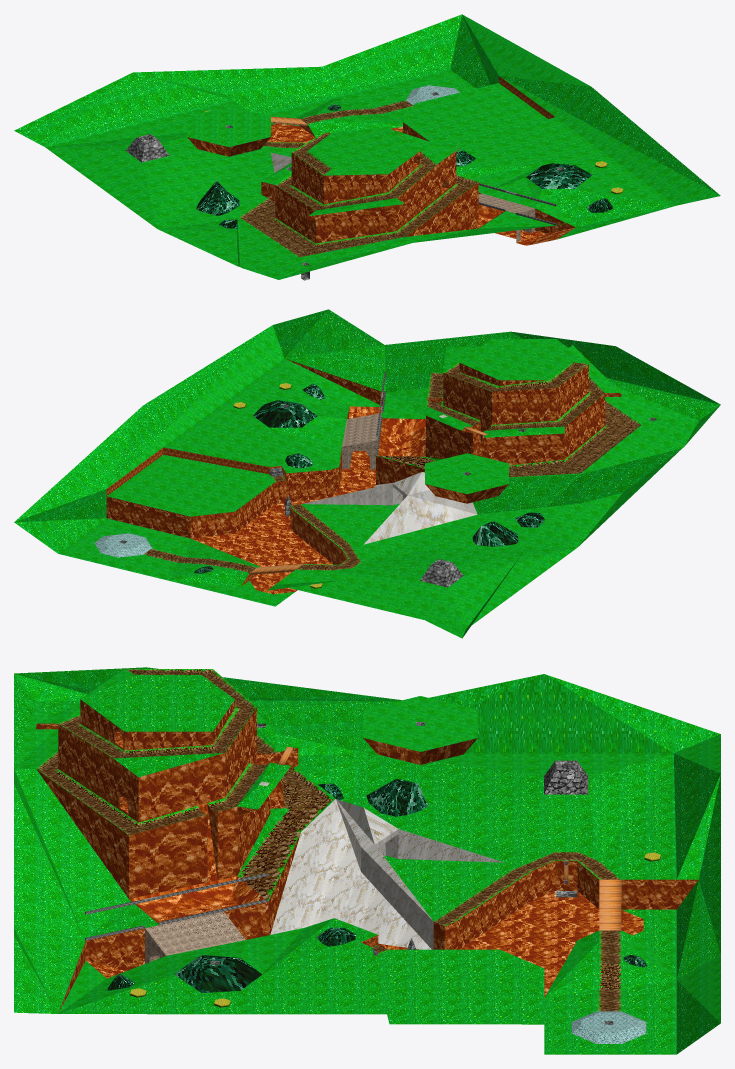
3 views of the same model, one above another, from view 1: azimuth 30°, elevation 25°; view 2: azimuth 150°, elevation 25°; view 3: azimuth 270°, elevation 25° (orthographic). The views are drawn at different scales.
Parts seen in each view (by area): view 1: Shape_IndexedFaceSet.009, Shape_IndexedFaceSet.022, Shape_IndexedFaceSet.024, Shape_IndexedFaceSet.025, Shape_IndexedFaceSet.014, Shape_IndexedFaceSet.027, Shape_IndexedFaceSet.010, Shape_IndexedFaceSet.017, Shape_IndexedFaceSet.015, Shape_IndexedFaceSet.013, Shape_IndexedFaceSet.012, Shape_IndexedFaceSet.023; view 2: Shape_IndexedFaceSet.009, Shape_IndexedFaceSet.022, Shape_IndexedFaceSet.024, Shape_IndexedFaceSet.016, Shape_IndexedFaceSet.025, Shape_IndexedFaceSet.014, Shape_IndexedFaceSet.010, Shape_IndexedFaceSet.027, Shape_IndexedFaceSet.015, Shape_IndexedFaceSet.012, Shape_IndexedFaceSet.023, Shape_IndexedFaceSet.017 (+1 smaller); view 3: Shape_IndexedFaceSet.009, Shape_IndexedFaceSet.022, Shape_IndexedFaceSet.016, Shape_IndexedFaceSet.024, Shape_IndexedFaceSet.025, Shape_IndexedFaceSet.014, Shape_IndexedFaceSet.010, Shape_IndexedFaceSet.015, Shape_IndexedFaceSet.012, Shape_IndexedFaceSet.013, Shape_IndexedFaceSet.017, Shape_IndexedFaceSet.011 (+1 smaller).
Part boxes in pixels (<box>): Shape_IndexedFaceSet.009: <box>14,14,720,279</box>; Shape_IndexedFaceSet.022: <box>187,76,575,245</box>; Shape_IndexedFaceSet.024: <box>262,127,455,216</box>; Shape_IndexedFaceSet.025: <box>239,130,478,257</box>; Shape_IndexedFaceSet.014: <box>196,104,613,228</box>; Shape_IndexedFaceSet.027: <box>244,200,402,256</box>; Shape_IndexedFaceSet.010: <box>263,100,412,148</box>; Shape_IndexedFaceSet.017: <box>125,134,459,162</box>; Shape_IndexedFaceSet.015: <box>478,193,535,242</box>; Shape_IndexedFaceSet.013: <box>225,92,564,280</box>; Shape_IndexedFaceSet.012: <box>406,85,459,105</box>; Shape_IndexedFaceSet.023: <box>267,125,531,239</box>; Shape_IndexedFaceSet.009: <box>14,309,720,638</box>; Shape_IndexedFaceSet.022: <box>106,359,621,594</box>; Shape_IndexedFaceSet.024: <box>414,339,620,460</box>; Shape_IndexedFaceSet.016: <box>302,414,477,544</box>; Shape_IndexedFaceSet.025: <box>376,361,641,477</box>; Shape_IndexedFaceSet.014: <box>194,384,545,573</box>; Shape_IndexedFaceSet.010: <box>143,475,361,573</box>; Shape_IndexedFaceSet.027: <box>509,404,636,477</box>; Shape_IndexedFaceSet.015: <box>342,413,381,469</box>; Shape_IndexedFaceSet.012: <box>94,533,151,557</box>; Shape_IndexedFaceSet.023: <box>249,450,369,591</box>; Shape_IndexedFaceSet.017: <box>270,467,463,587</box>; Shape_IndexedFaceSet.009: <box>14,667,720,1054</box>; Shape_IndexedFaceSet.022: <box>36,699,698,1012</box>; Shape_IndexedFaceSet.016: <box>259,781,504,949</box>; Shape_IndexedFaceSet.024: <box>37,669,297,874</box>; Shape_IndexedFaceSet.025: <box>36,669,333,900</box>; Shape_IndexedFaceSet.014: <box>107,779,647,992</box>; Shape_IndexedFaceSet.010: <box>372,851,621,1011</box>; Shape_IndexedFaceSet.015: <box>145,911,245,963</box>; Shape_IndexedFaceSet.012: <box>571,1011,646,1043</box>; Shape_IndexedFaceSet.013: <box>85,722,613,1024</box>; Shape_IndexedFaceSet.017: <box>372,760,588,955</box>; Shape_IndexedFaceSet.011: <box>278,746,621,930</box>.
Size of what is drawn, in the model's own units: 16.39 by 4.7 by 16.38.
Materials: 19 (19 with a texture image).
